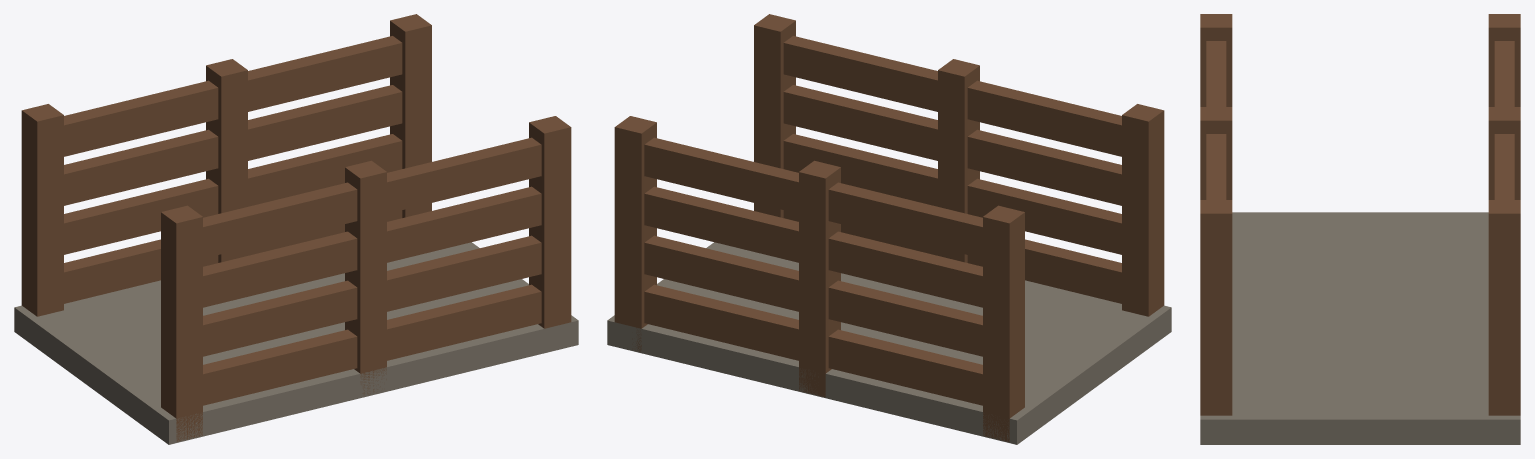
File: compost-bin.source.glb
3 views of the same model, side by side, from view 1: azimuth 30°, elevation 25°; view 2: azimuth 150°, elevation 25°; view 3: azimuth 270°, elevation 25° (orthographic). The views are drawn at different scales.
Parts seen in each view (by area): view 1: compost-bin-base-mesh, compost-bin-side-slat--0.72-0.81-mesh, compost-bin-side-slat--0.72-1.09-mesh, compost-bin-side-slat--0.72-0.53-mesh, compost-bin-side-slat-0.72-0.81-mesh, compost-bin-side-slat-0.72-0.25-mesh, compost-bin-post--1.1-0.72-mesh, compost-bin-post--1.1--0.72-mesh, compost-bin-side-slat-0.72-0.53-mesh, compost-bin-post-0-0.72-mesh, compost-bin-post-1.1-0.72-mesh, compost-bin-side-slat-0.72-1.09-mesh (+11 smaller); view 2: compost-bin-base-mesh, compost-bin-side-slat--0.72-0.81-mesh, compost-bin-side-slat--0.72-1.09-mesh, compost-bin-side-slat--0.72-0.25-mesh, compost-bin-side-slat--0.72-0.53-mesh, compost-bin-side-slat-0.72-0.81-mesh, compost-bin-post--1.1--0.72-mesh, compost-bin-post--1.1-0.72-mesh, compost-bin-side-slat-0.72-0.53-mesh, compost-bin-post-0--0.72-mesh, compost-bin-side-slat-0.72-1.09-mesh, compost-bin-post-1.1--0.72-mesh (+11 smaller); view 3: compost-bin-base-mesh, compost-bin-post-1.1--0.72-mesh, compost-bin-post-1.1-0.72-mesh, compost-bin-side-slat--0.72-1.09-mesh, compost-bin-side-slat-0.72-1.09-mesh, compost-bin-post--1.1--0.72-mesh, compost-bin-post--1.1-0.72-mesh, compost-bin-post-0--0.72-mesh, compost-bin-post-0-0.72-mesh, compost-bin-front-slat-0.55-1.09-mesh, compost-bin-front-slat--0.55-1.09-mesh.
Boxes of the visible parts, x1,y1,x2,y2 form: compost-bin-base-mesh: (14,242,578,444); compost-bin-side-slat--0.72-0.81-mesh: (64,85,402,205); compost-bin-side-slat--0.72-1.09-mesh: (64,36,402,156); compost-bin-side-slat--0.72-0.53-mesh: (64,134,402,254); compost-bin-side-slat-0.72-0.81-mesh: (203,186,541,307); compost-bin-side-slat-0.72-0.25-mesh: (203,284,541,405); compost-bin-post--1.1-0.72-mesh: (161,205,202,441); compost-bin-post--1.1--0.72-mesh: (21,104,63,316); compost-bin-side-slat-0.72-0.53-mesh: (203,235,541,356); compost-bin-post-0-0.72-mesh: (345,160,386,394); compost-bin-post-1.1-0.72-mesh: (529,116,571,328); compost-bin-side-slat-0.72-1.09-mesh: (203,137,541,258); compost-bin-base-mesh: (607,242,1171,444); compost-bin-side-slat--0.72-0.81-mesh: (644,186,982,307); compost-bin-side-slat--0.72-1.09-mesh: (644,137,982,258); compost-bin-side-slat--0.72-0.25-mesh: (644,284,982,405); compost-bin-side-slat--0.72-0.53-mesh: (644,235,982,356); compost-bin-side-slat-0.72-0.81-mesh: (783,85,1121,205); compost-bin-post--1.1--0.72-mesh: (983,205,1024,441); compost-bin-post--1.1-0.72-mesh: (1122,104,1164,316); compost-bin-side-slat-0.72-0.53-mesh: (783,134,1121,254); compost-bin-post-0--0.72-mesh: (799,160,840,397); compost-bin-side-slat-0.72-1.09-mesh: (783,36,1121,156); compost-bin-post-1.1--0.72-mesh: (614,116,656,351); compost-bin-base-mesh: (1200,212,1520,444); compost-bin-post-1.1--0.72-mesh: (1488,200,1520,415); compost-bin-post-1.1-0.72-mesh: (1200,200,1232,415); compost-bin-side-slat--0.72-1.09-mesh: (1494,41,1514,199); compost-bin-side-slat-0.72-1.09-mesh: (1206,41,1226,199); compost-bin-post--1.1--0.72-mesh: (1488,14,1520,106); compost-bin-post--1.1-0.72-mesh: (1200,14,1232,106); compost-bin-post-0--0.72-mesh: (1488,107,1520,199); compost-bin-post-0-0.72-mesh: (1200,107,1232,199); compost-bin-front-slat-0.55-1.09-mesh: (1206,139,1226,199); compost-bin-front-slat--0.55-1.09-mesh: (1206,46,1226,102).
Bounding box in the file's own units: 2.45 × 1.26 × 1.6.
